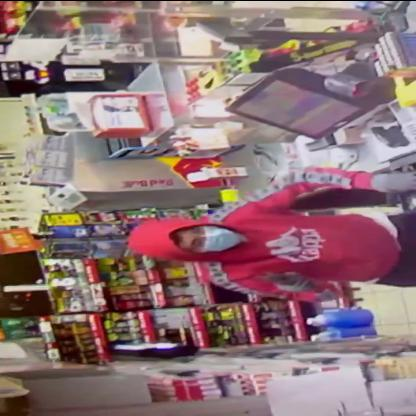Pistol: (252, 264, 322, 292)
